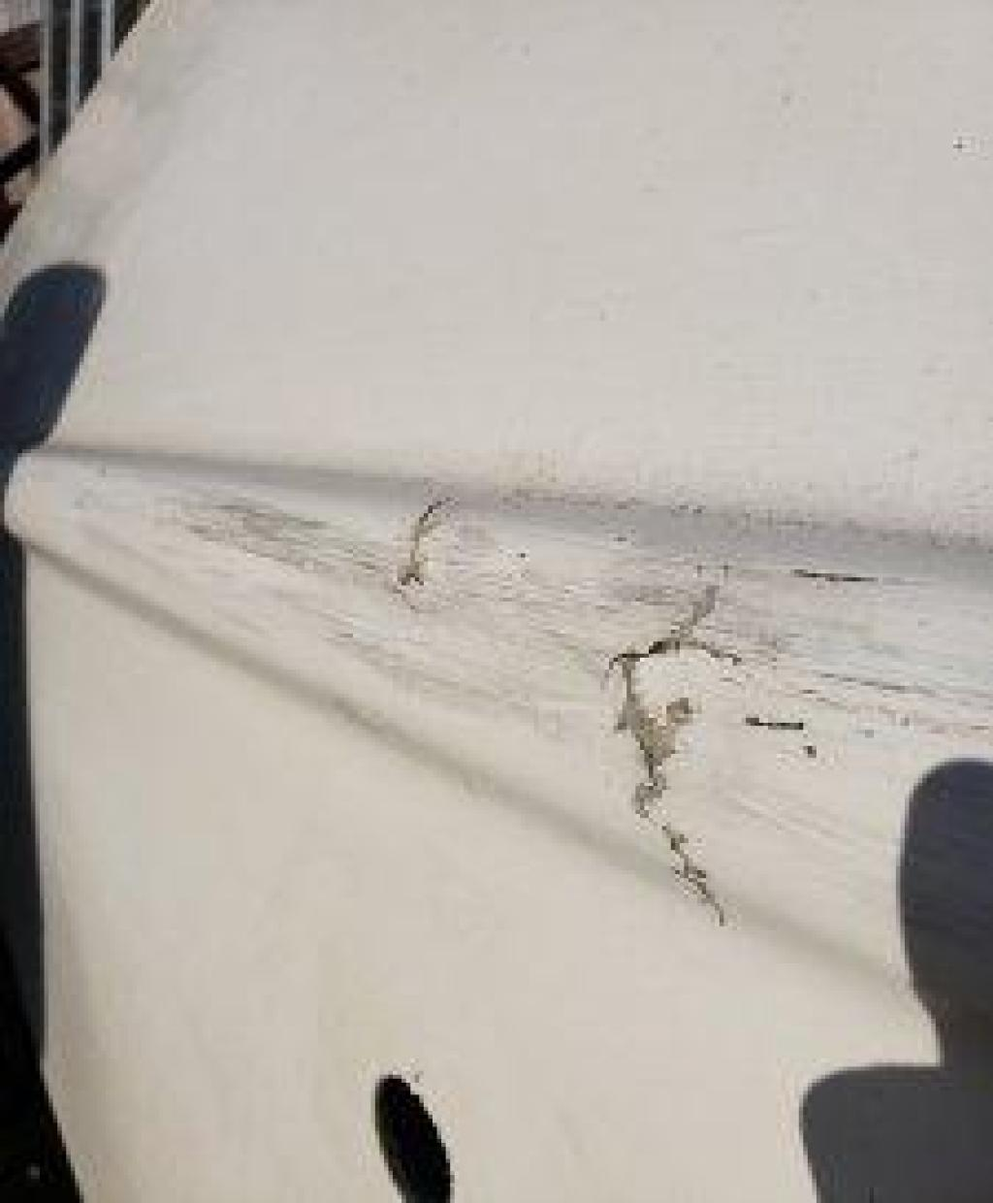crack: (616, 591, 741, 931), (395, 495, 441, 591)
